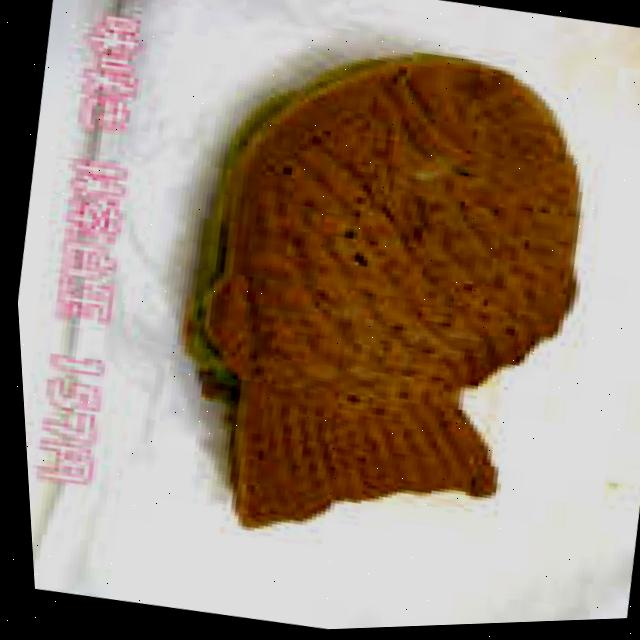熟制海鲜: (133, 13, 625, 589)
